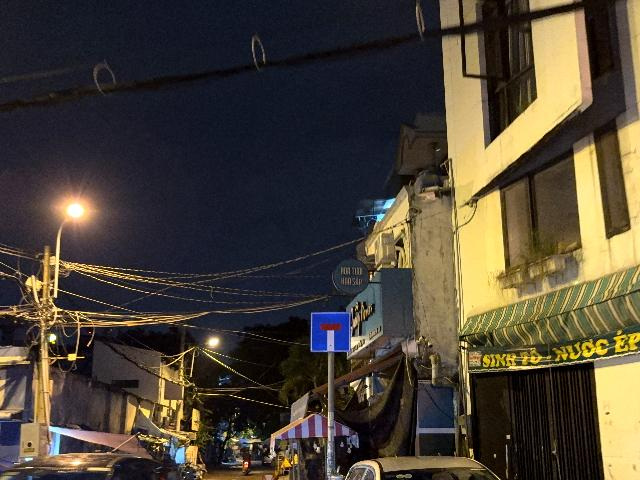duong-cut: (311, 312, 350, 352)
